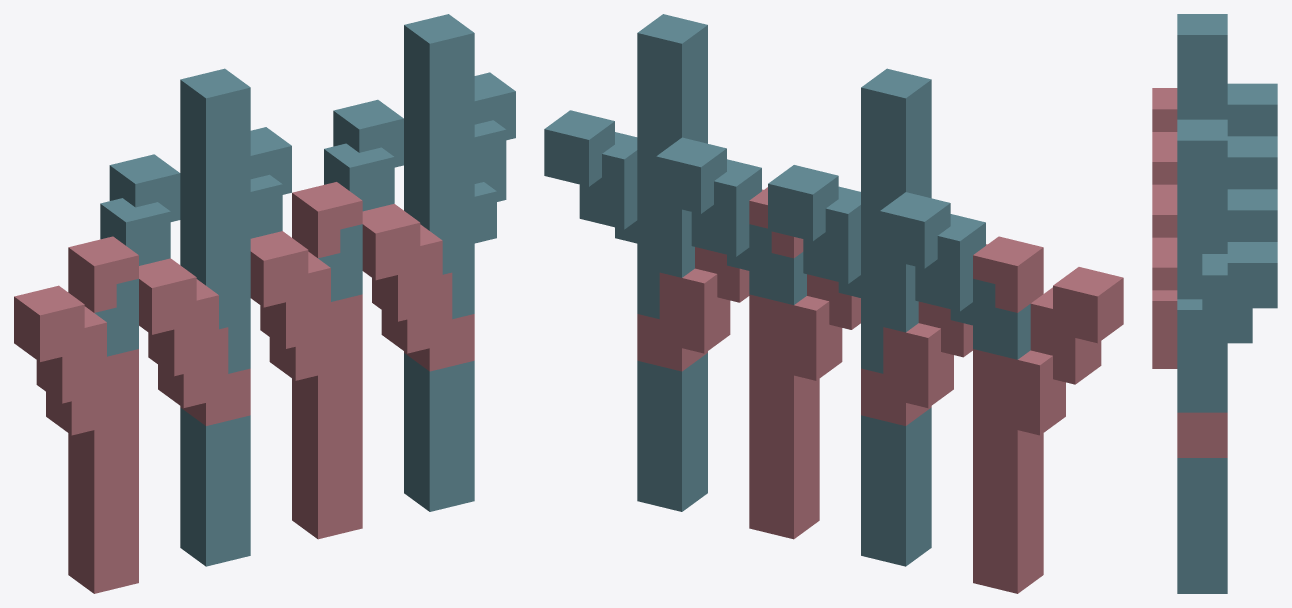
File: ocean-02.glb
The picture shows the model from 3 angles, left to right: view 1: azimuth 30°, elevation 25°; view 2: azimuth 150°, elevation 25°; view 3: azimuth 270°, elevation 25°; orthographic projection. The views are drawn at different scales.
Parts seen in each view (by area): view 1: Coral reef; view 2: Coral reef; view 3: Coral reef.
Part boxes in pixels (bbox=[...]): Coral reef: bbox=[14, 14, 515, 593]; Coral reef: bbox=[544, 14, 1123, 593]; Coral reef: bbox=[1152, 14, 1277, 593].
Bounding box in the file's own units: 1.84 × 1.6 × 0.4.
